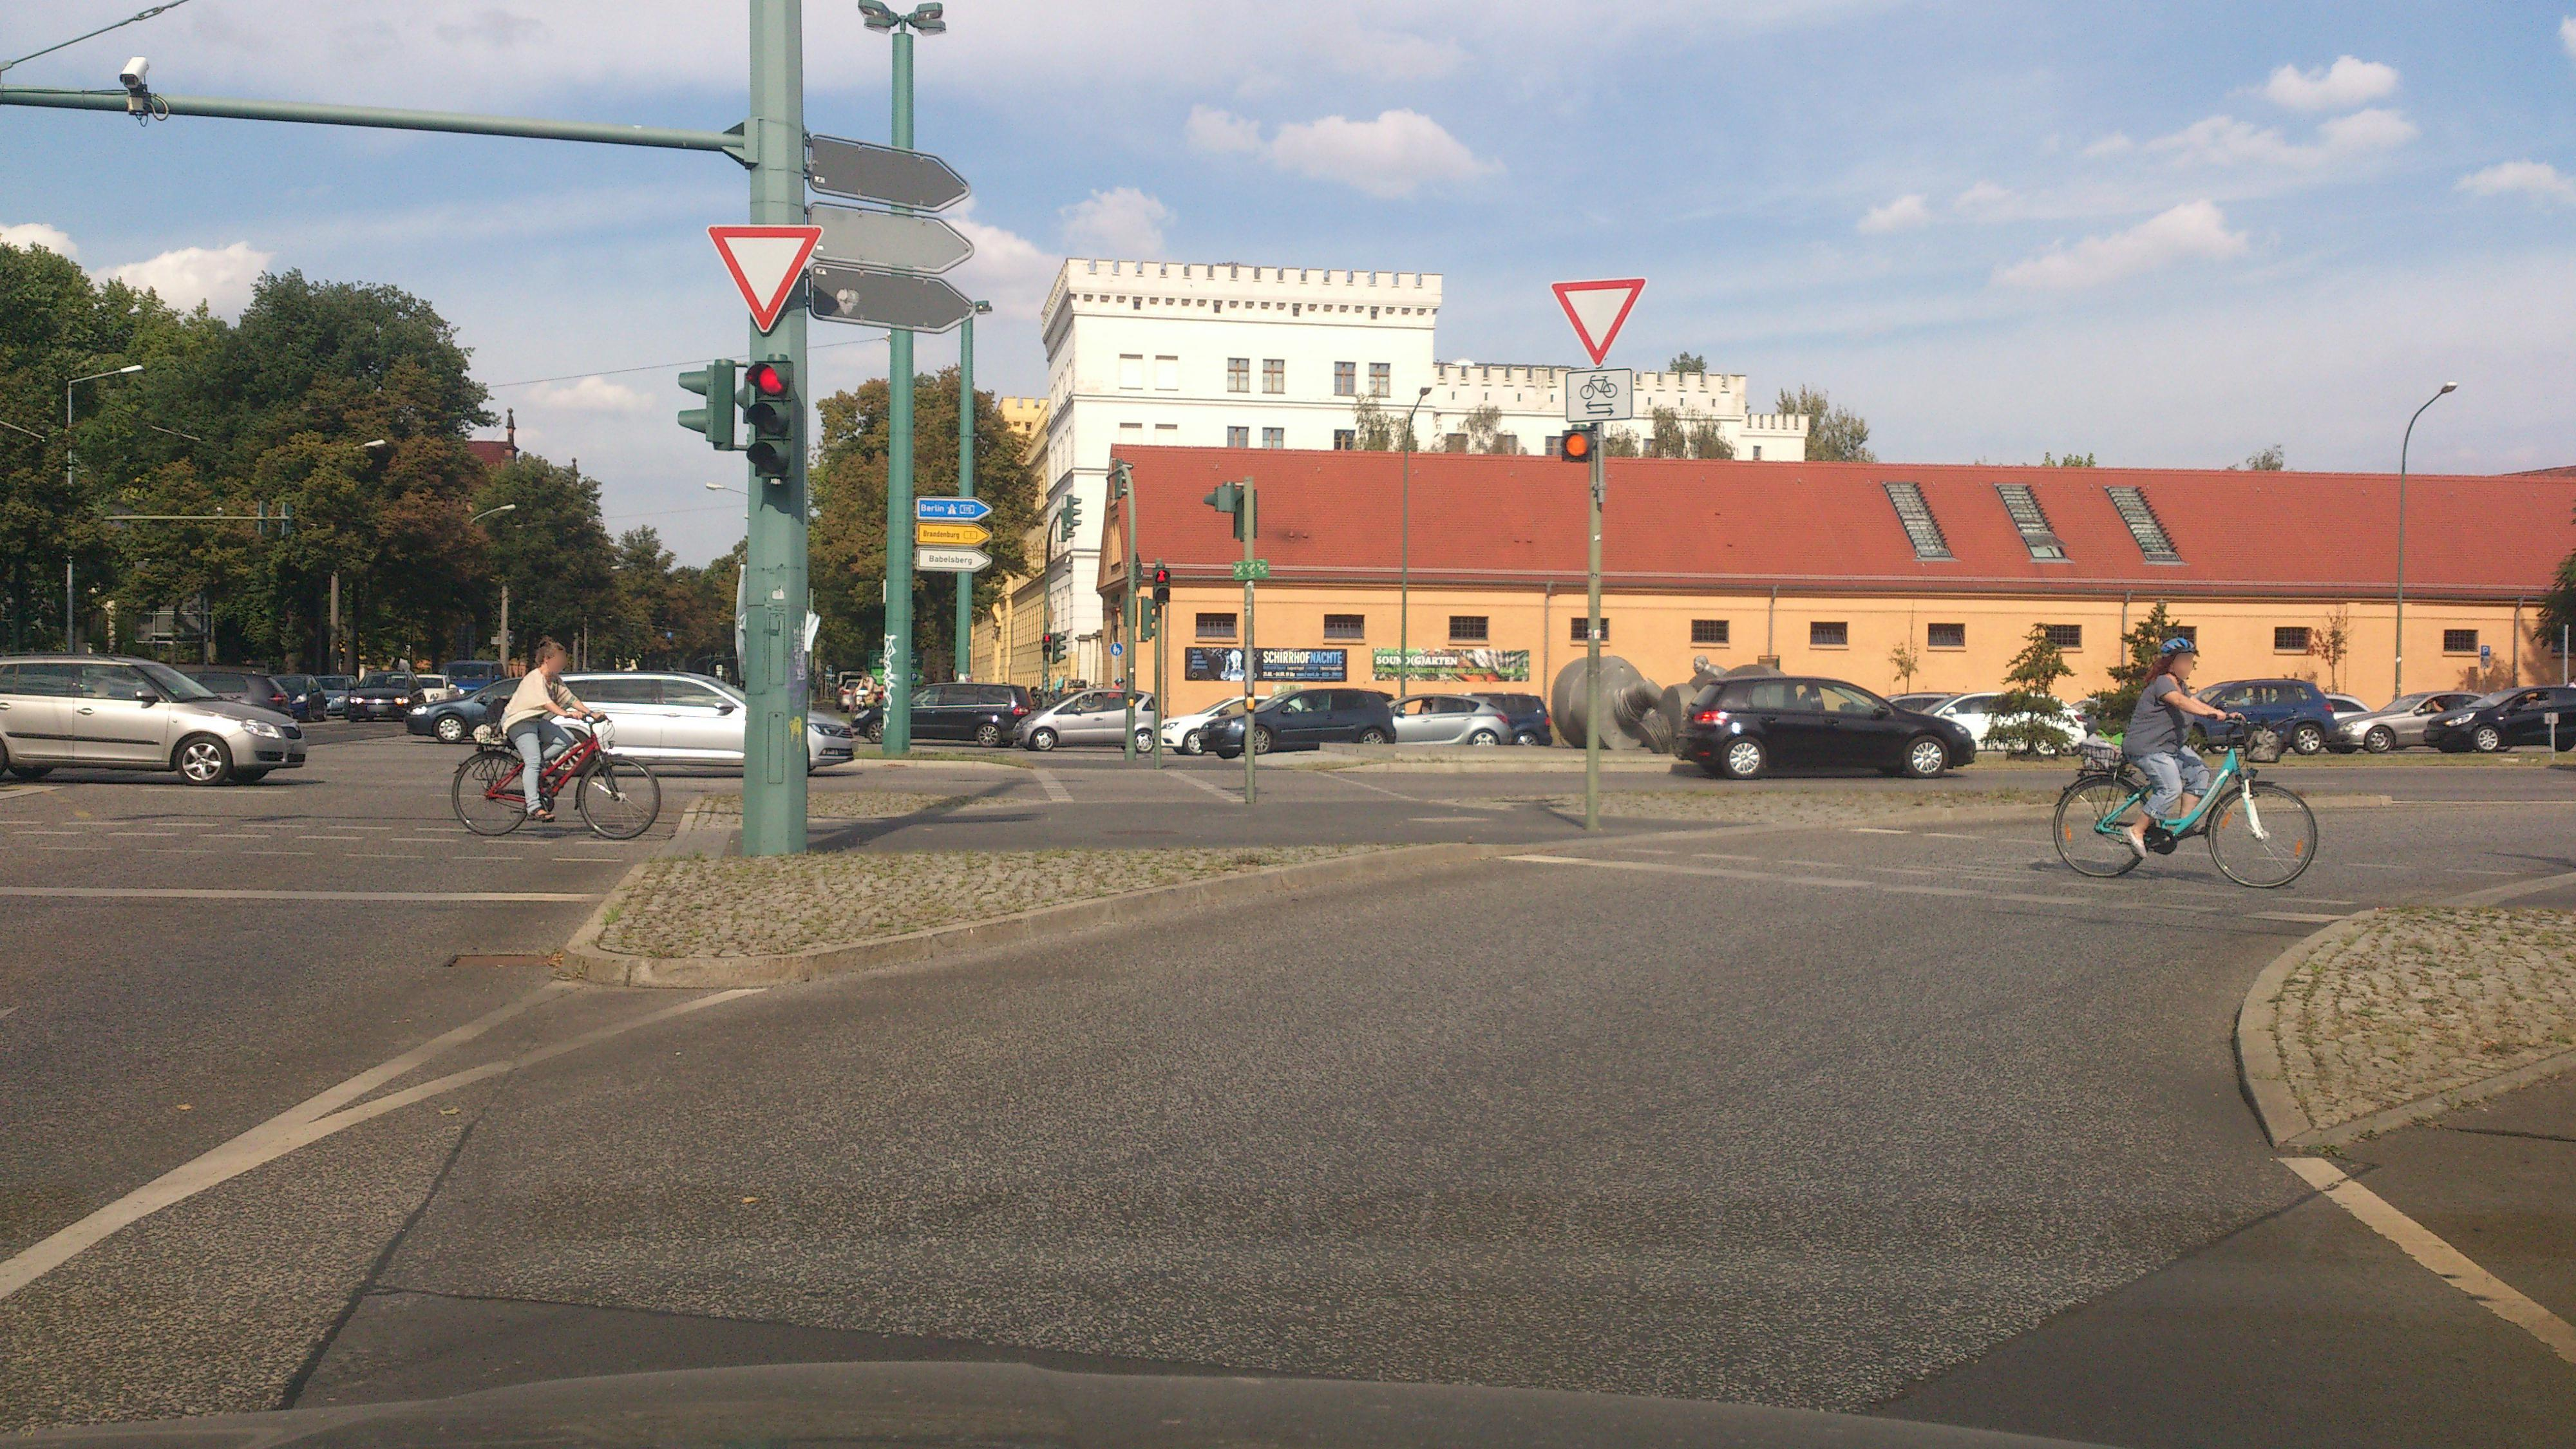vinyl banner: (1178, 630, 1352, 688), (1368, 639, 1532, 685)
